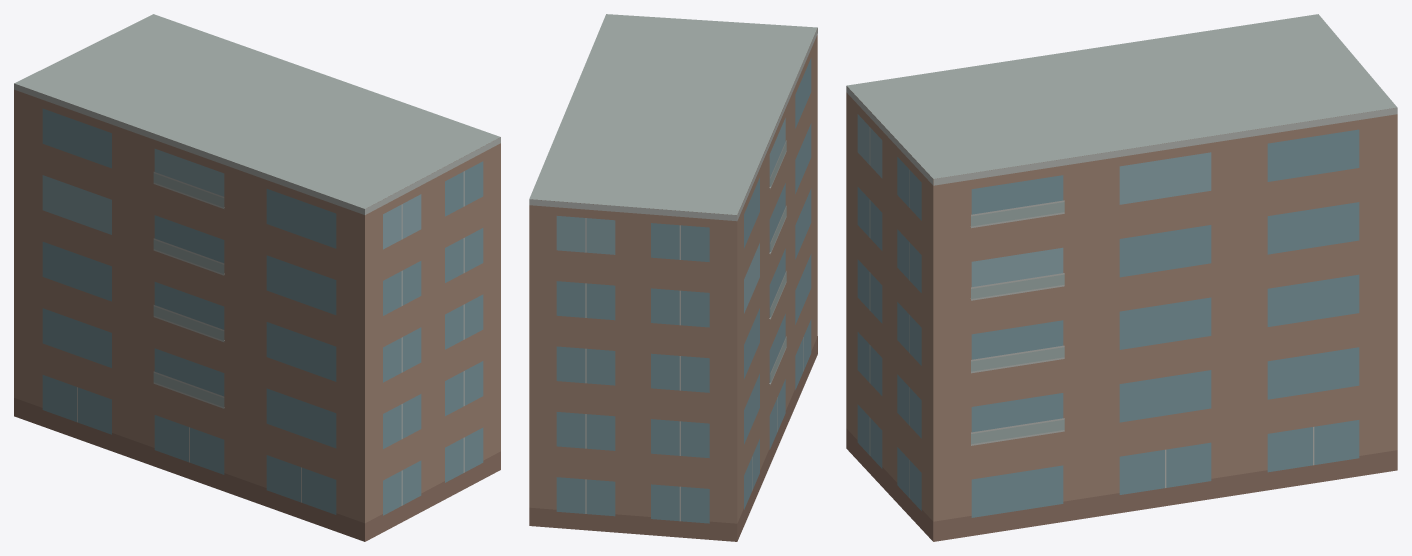
The model's file is survey-upis-32889230.glb.
The picture shows the model from 3 angles, left to right: view 1: azimuth 30°, elevation 25°; view 2: azimuth 150°, elevation 25°; view 3: azimuth 270°, elevation 25°; orthographic projection. The views are drawn at different scales.
Parts seen in each view (by area): view 1: survey-upis-32889230.tmp; view 2: survey-upis-32889230.tmp; view 3: survey-upis-32889230.tmp.
Boxes of the visible parts, x1,y1,x2,y2 form: survey-upis-32889230.tmp: (14, 14, 500, 541); survey-upis-32889230.tmp: (529, 14, 817, 541); survey-upis-32889230.tmp: (846, 14, 1397, 541).
Bounding box in the file's own units: 12.88 × 13.2 × 18.18.
